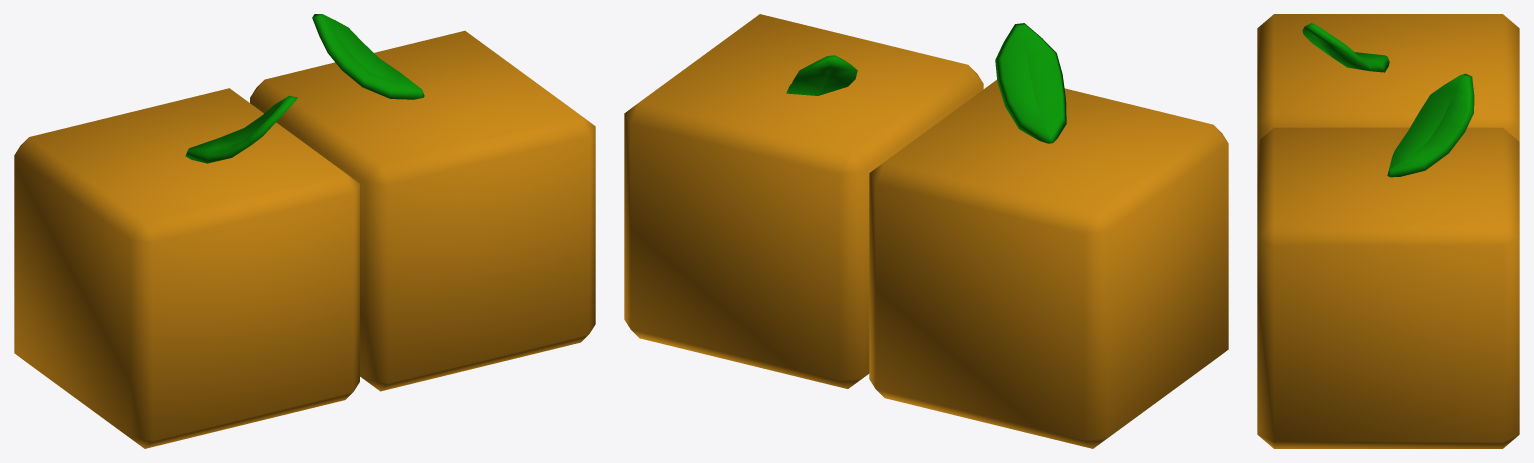
Rendered from cake_orange_2.fbx.
3 views of the same model, side by side, from view 1: azimuth 30°, elevation 25°; view 2: azimuth 150°, elevation 25°; view 3: azimuth 270°, elevation 25° (orthographic). The views are drawn at different scales.
Parts seen in each view (by area): view 1: 立方体.028; view 2: 立方体.028; view 3: 立方体.028.
Boxes of the visible parts, x1,y1,x2,y2 form: 立方体.028: (14,14,595,448); 立方体.028: (624,14,1228,448); 立方体.028: (1257,14,1519,448).
Bounding box in the file's own units: 29.57 × 18.02 × 14.6.
